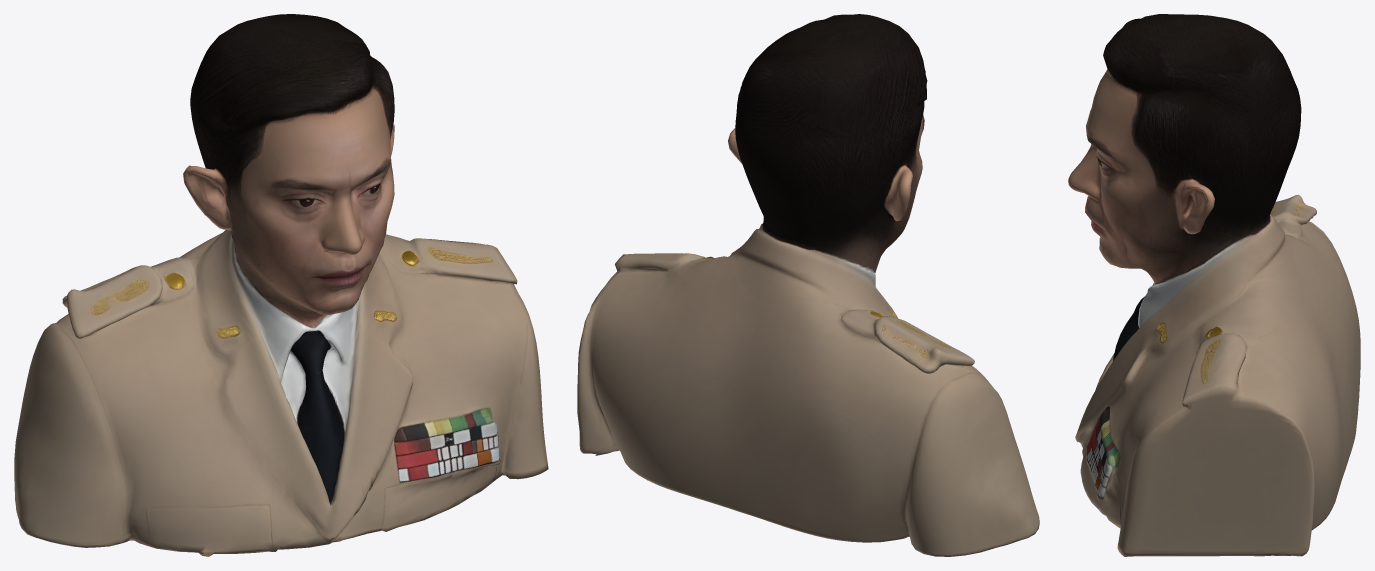
File: ahmadyani.glb
3 views of the same model, side by side, from view 1: azimuth 30°, elevation 25°; view 2: azimuth 150°, elevation 25°; view 3: azimuth 270°, elevation 25° (orthographic). The views are drawn at different scales.
Visible parts, largest first — view 1: model; view 2: model; view 3: model.
Part boxes in pixels (left/top/right/bottom): model: left=14, top=14, right=548, bottom=556; model: left=577, top=14, right=1039, bottom=556; model: left=1068, top=14, right=1360, bottom=556.
Bounding box in the file's own units: 1.89 × 1.83 × 1.13.
Materials: 1 (1 with a texture image).
